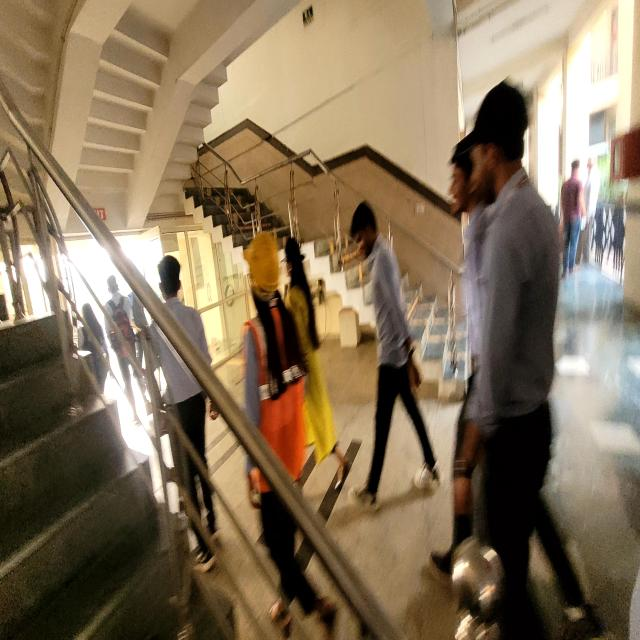safe: (237, 228, 340, 640)
unsafe: (458, 70, 564, 640), (148, 258, 236, 572), (350, 196, 436, 511), (104, 275, 147, 424)
